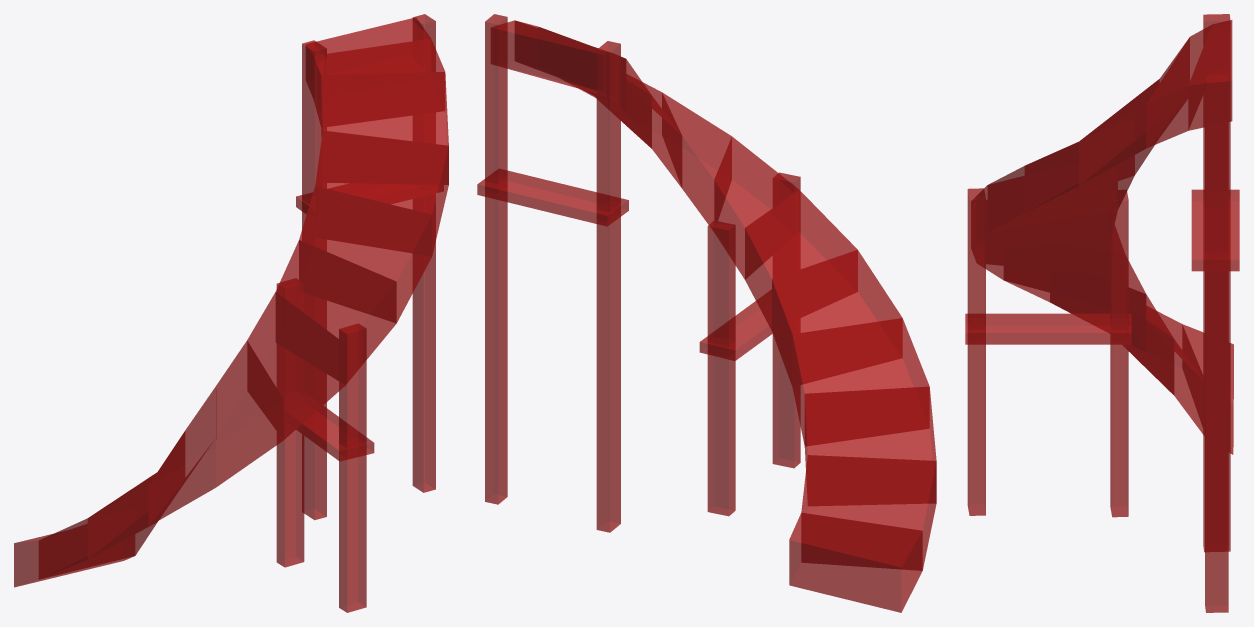
The model's file is SM_Bld_Stairs_Round_S_Wood_01_Collision.fbx.
3 views of the same model, side by side, from view 1: azimuth 30°, elevation 25°; view 2: azimuth 150°, elevation 25°; view 3: azimuth 270°, elevation 25° (orthographic). The views are drawn at different scales.
Visible parts, largest first — view 1: SM_Bld_Stairs_Round_S_Wood_01_Collision; view 2: SM_Bld_Stairs_Round_S_Wood_01_Collision; view 3: SM_Bld_Stairs_Round_S_Wood_01_Collision.
Part boxes in pixels (x1=…): SM_Bld_Stairs_Round_S_Wood_01_Collision: x1=14, y1=14, x2=448, y2=612; SM_Bld_Stairs_Round_S_Wood_01_Collision: x1=477, y1=14, x2=936, y2=612; SM_Bld_Stairs_Round_S_Wood_01_Collision: x1=965, y1=14, x2=1239, y2=612.
Size of the model in its own units: 484 by 535 by 247.
